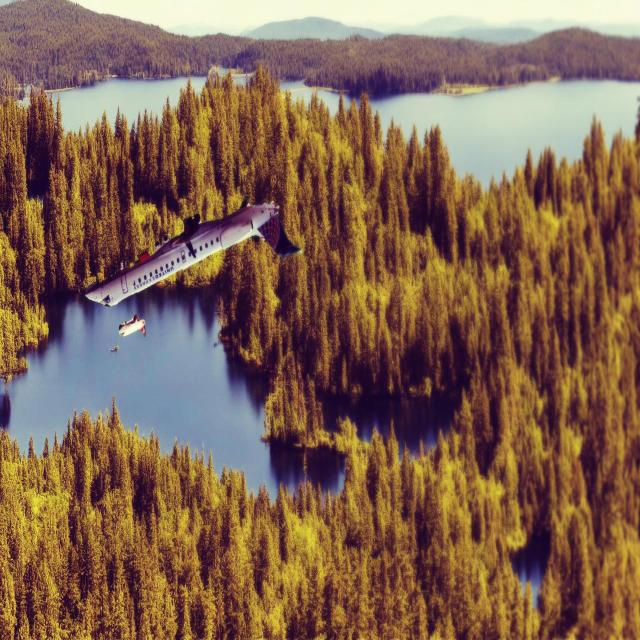airplane: (84, 197, 302, 308), (118, 313, 146, 338)
